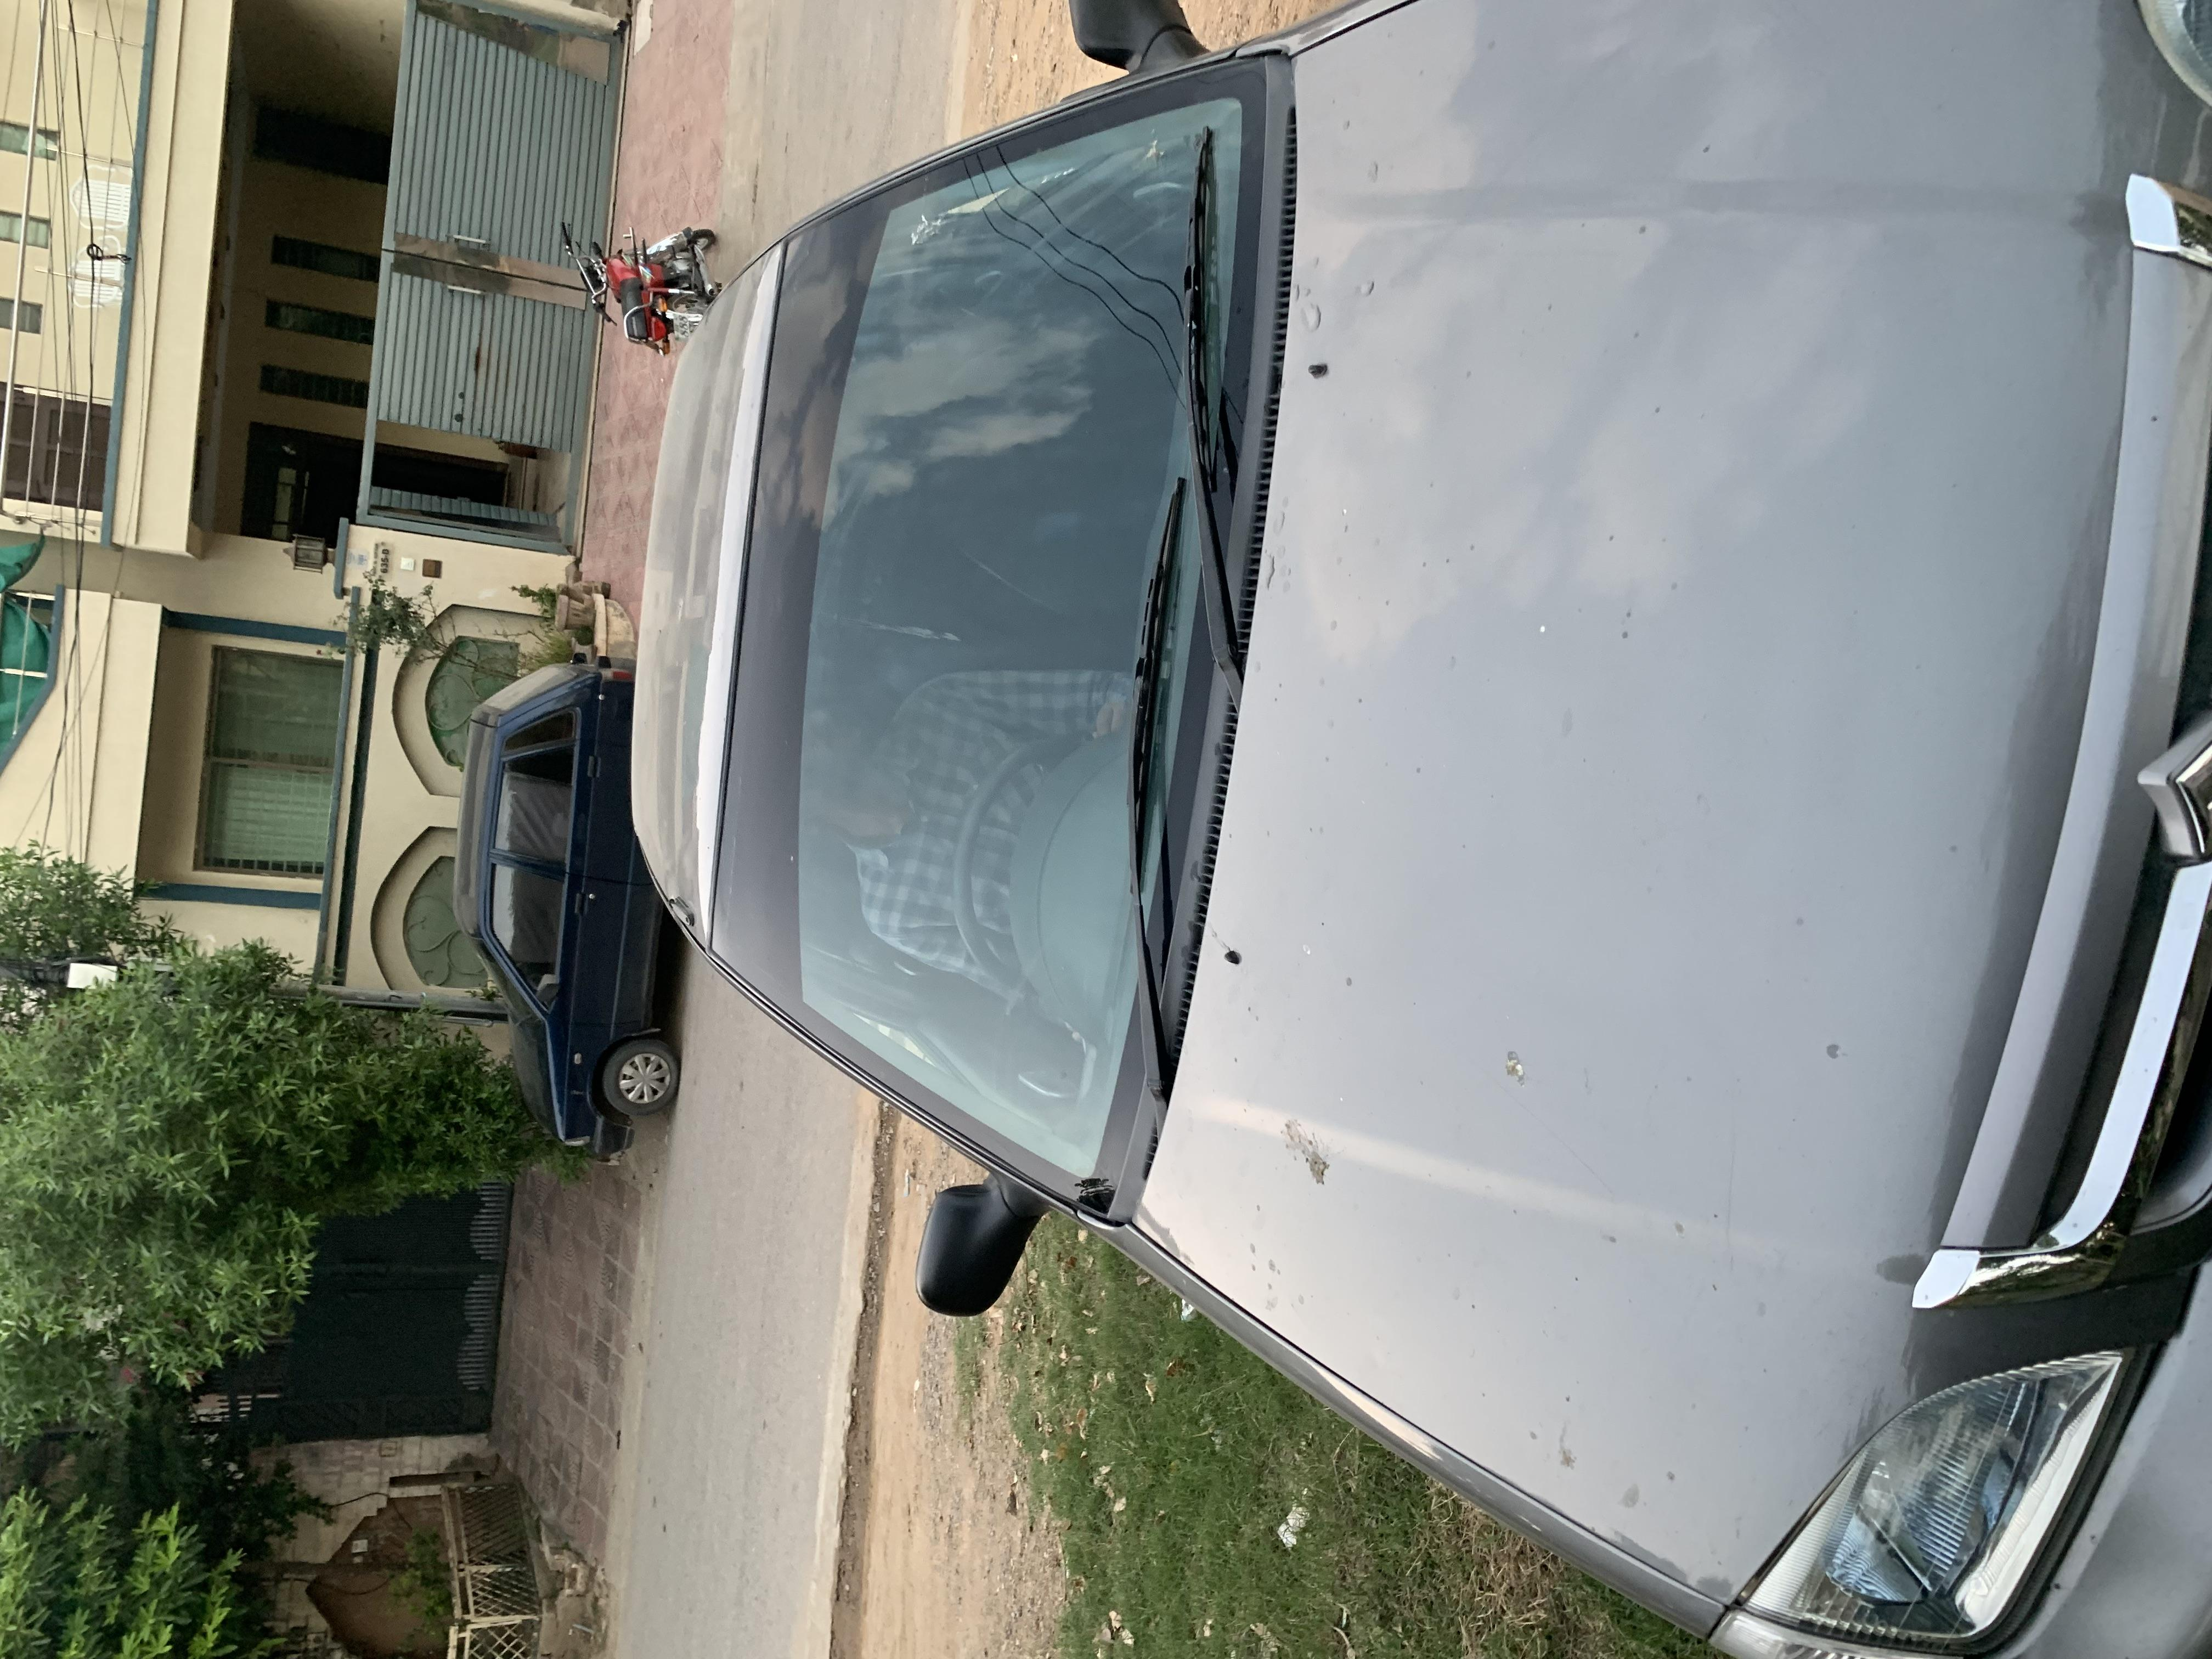windshield: (550, 519, 2181, 979)
